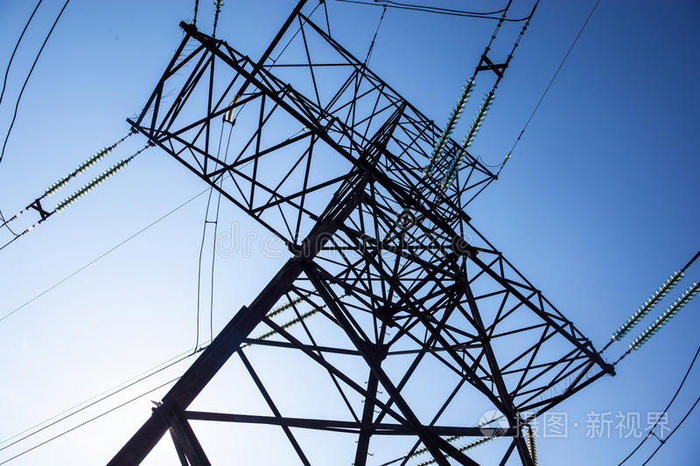insulator: (423, 75, 494, 187), (616, 270, 695, 346), (46, 144, 126, 211)
